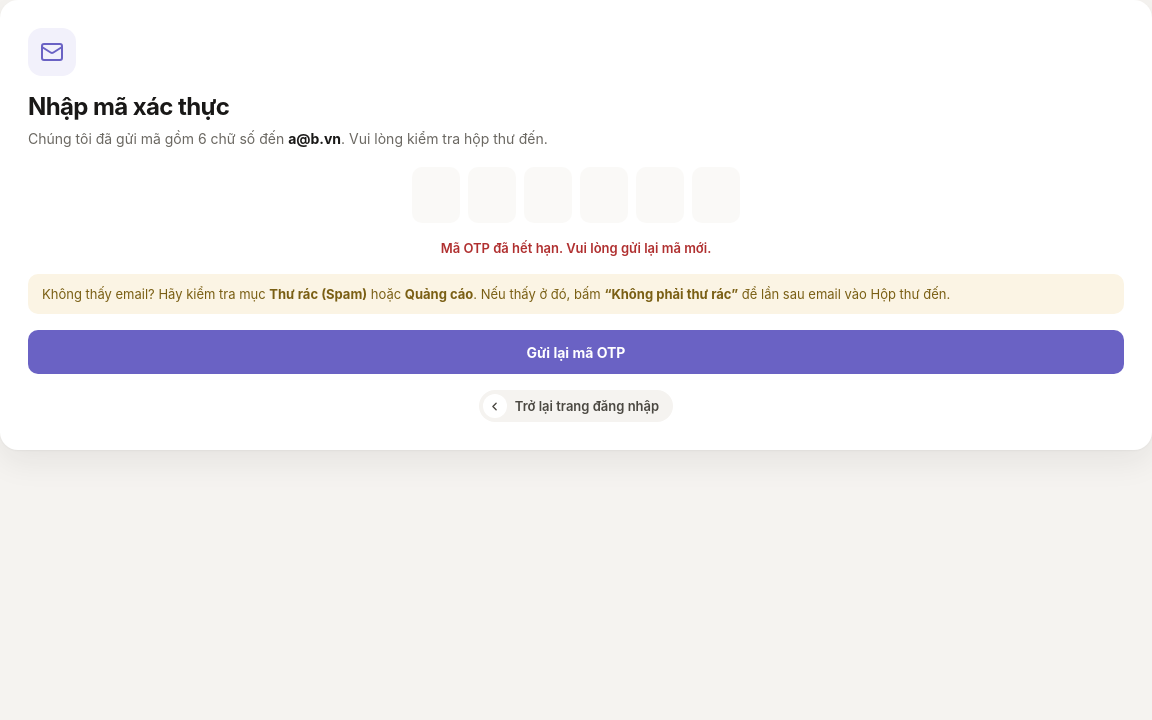
Test: VerifyEmailPage (OTP) › hết hạn: khoá ô nhập, bấm 'Gửi lại mã OTP' thì gọi resend và bắt đầu đếm lại
Check: the text "Mã OTP đã hết hạn. Vui lòng gửi lại mã mới." is shown, box [441,240,711,256]
Click the button "Gửi lại mã OTP".
click(576, 352)  # box [28,330,1124,374]
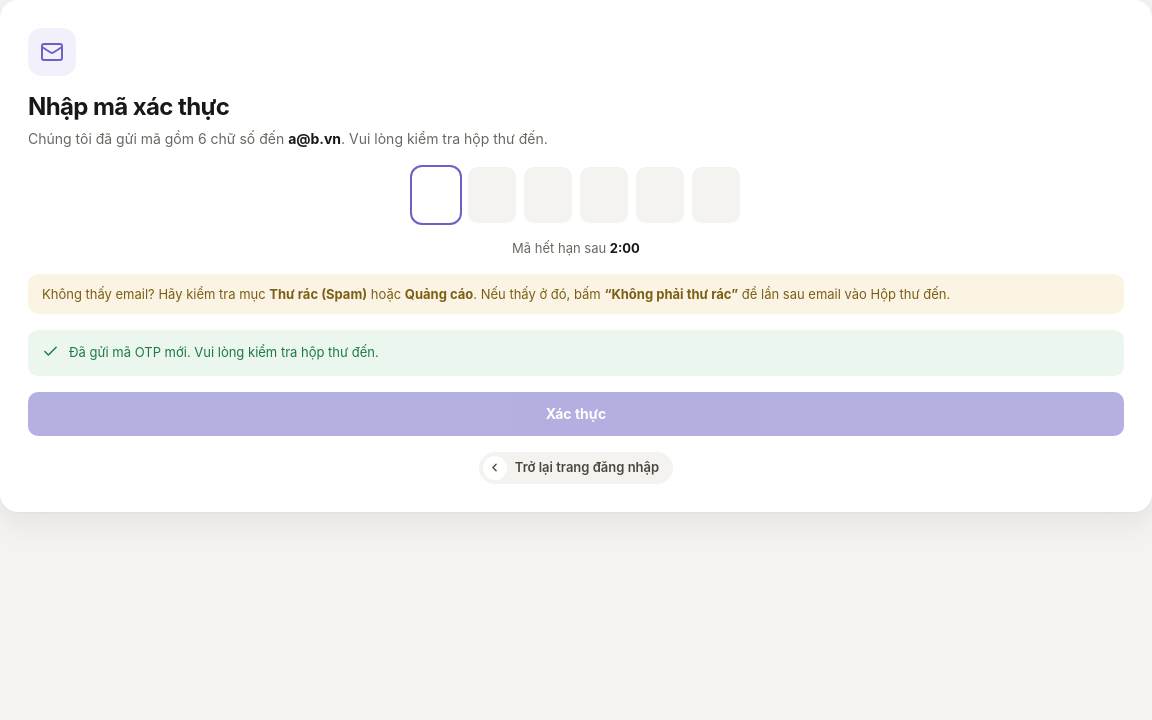
Check: the field named "Chữ số thứ" is enabled, box [412,167,460,223]
Check: the text "Mã hết hạn sau 2:00" is shown, box [512,240,640,256]
